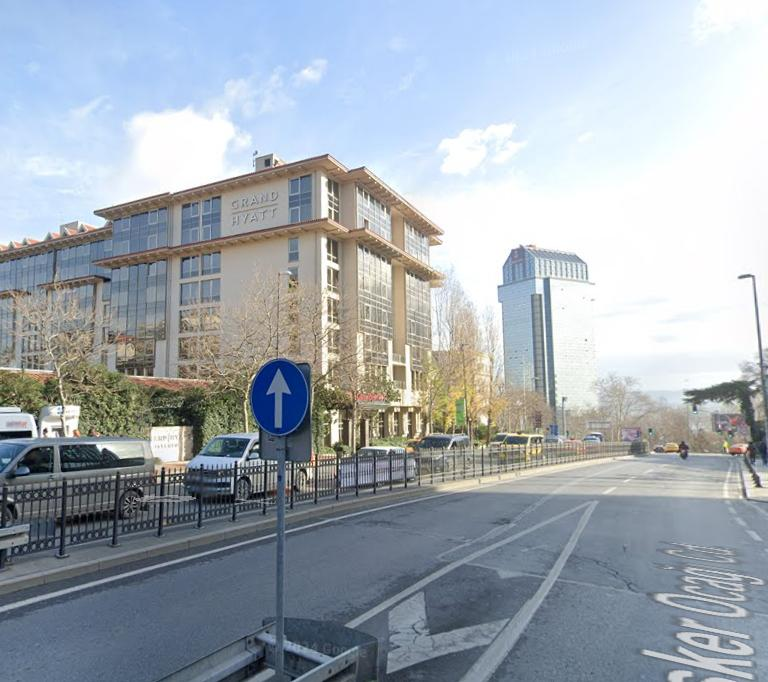forward: (248, 358, 311, 433)
